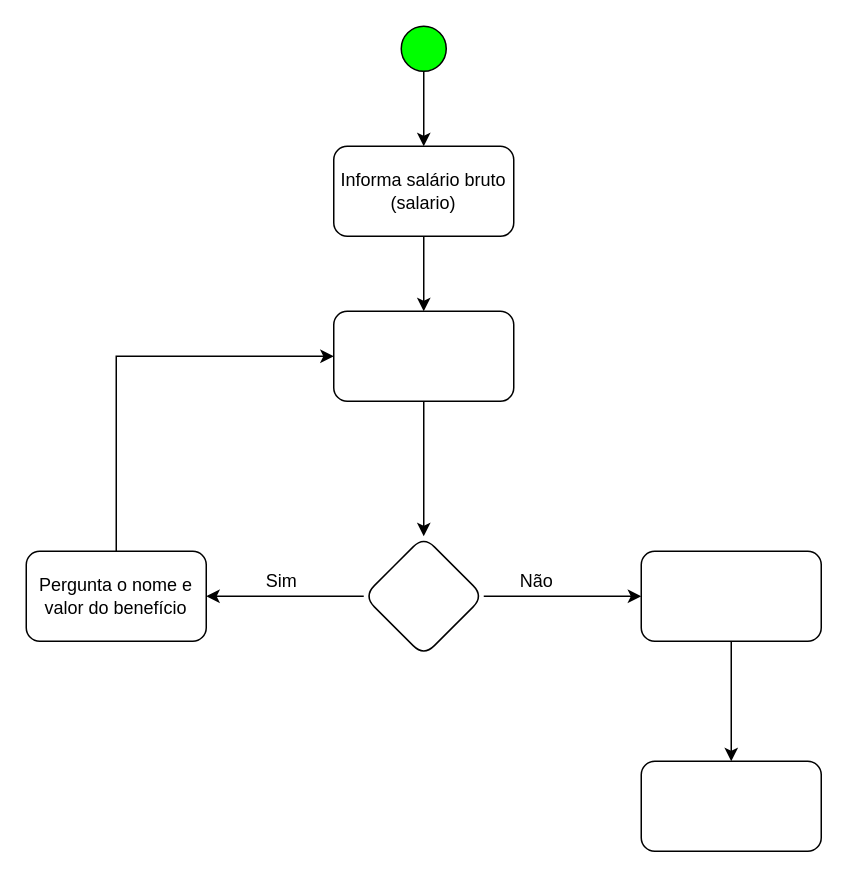
This 848x878 diagram has some shape labels left out. Each missing label, with the box of its shape:
10% do bruto do desconto de INSS: (640, 550, 821, 641)
Recebe benefício: (332, 310, 514, 401)
